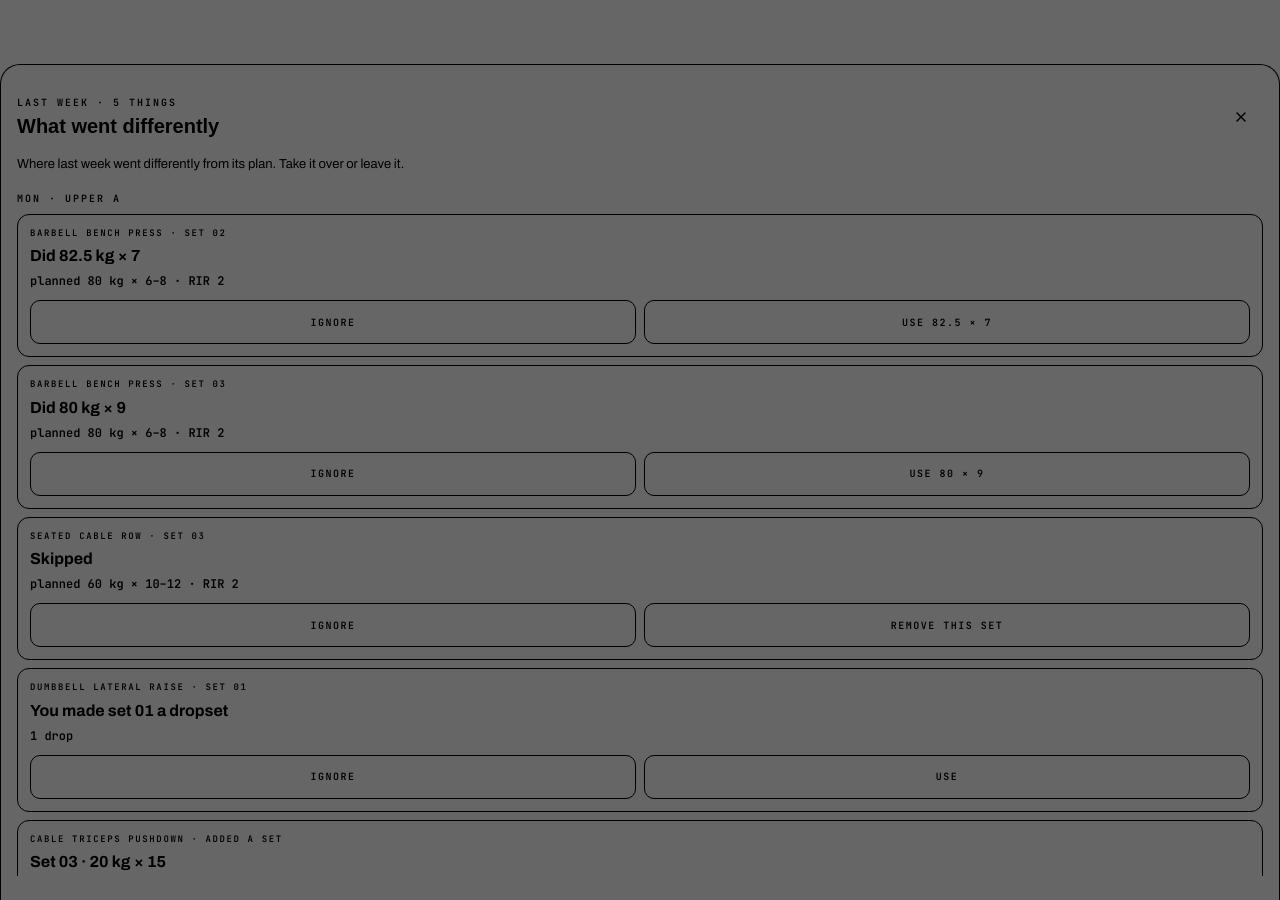
W: pending and error, per item › a write goes out while the phone is offline too (networkMode always): it fails with the network’s own words instead of waiting for a connection that may not com
The width and height of the screenshot is (1280, 900).
Check: the text "MON · UPPER A" is shown, box top-left (17, 192), bottom-right (121, 204)
Step 1. Click the button "IGNORE" below "Did 80 kg × 9" → (333, 474), box top-left (30, 452), bottom-right (636, 496)
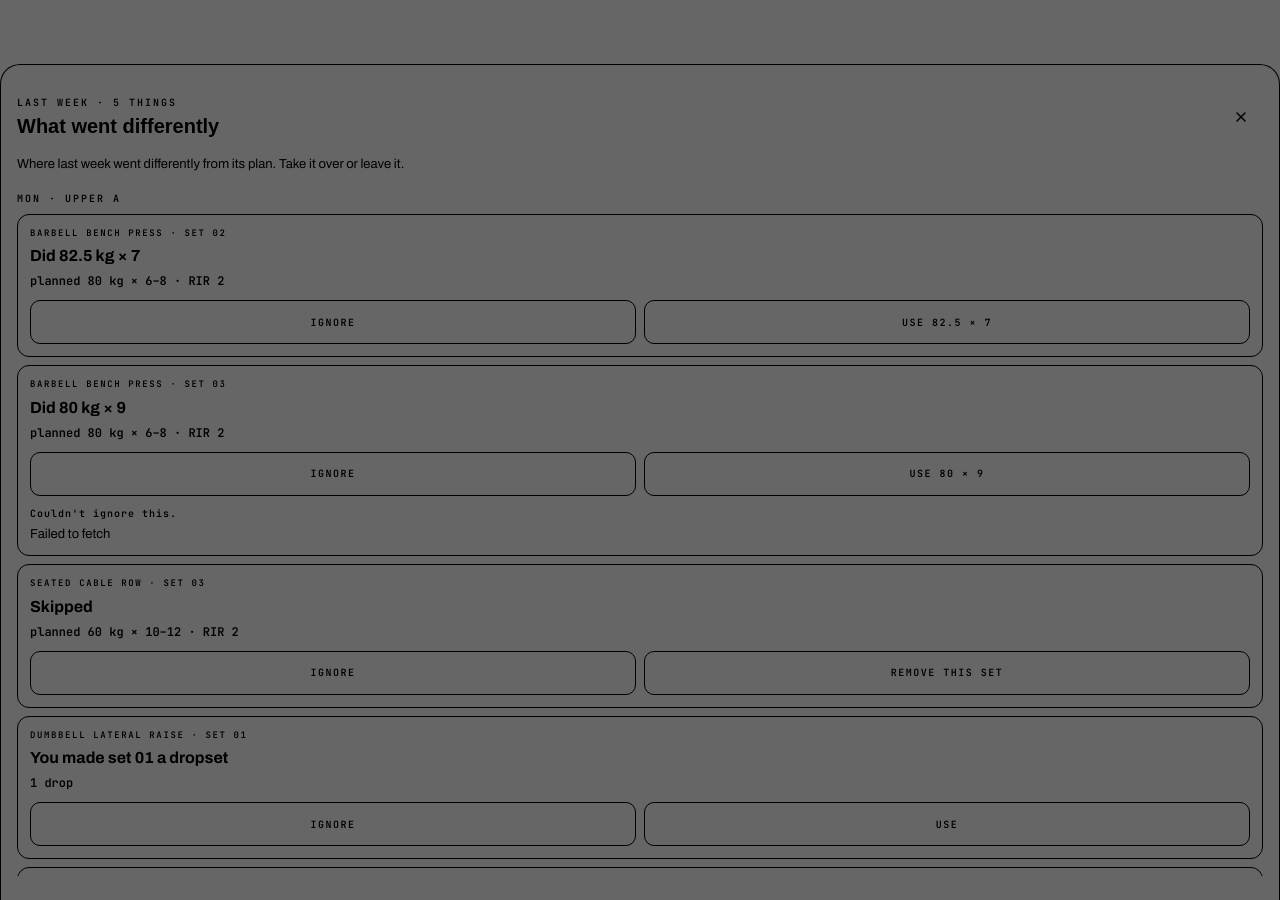
Check: the message shows "Failed to fetch", box top-left (30, 526), bottom-right (110, 540)
